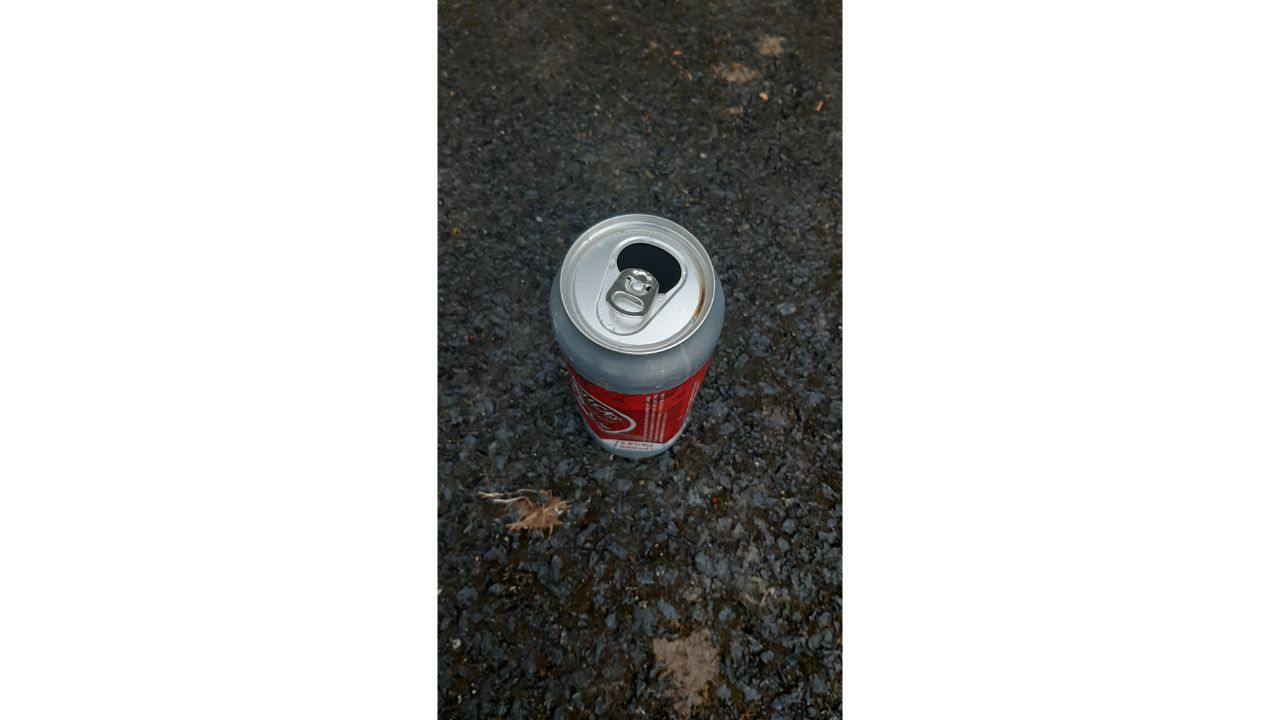Can: (546, 212, 724, 466)
